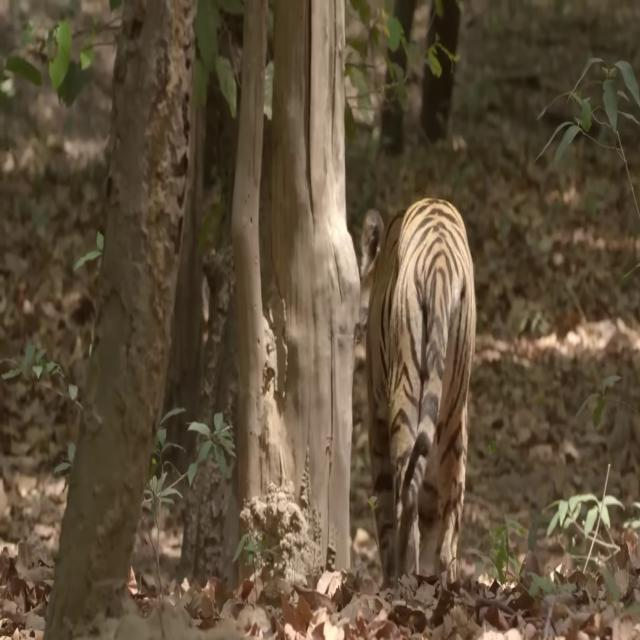tiger: (360, 197, 478, 593)
